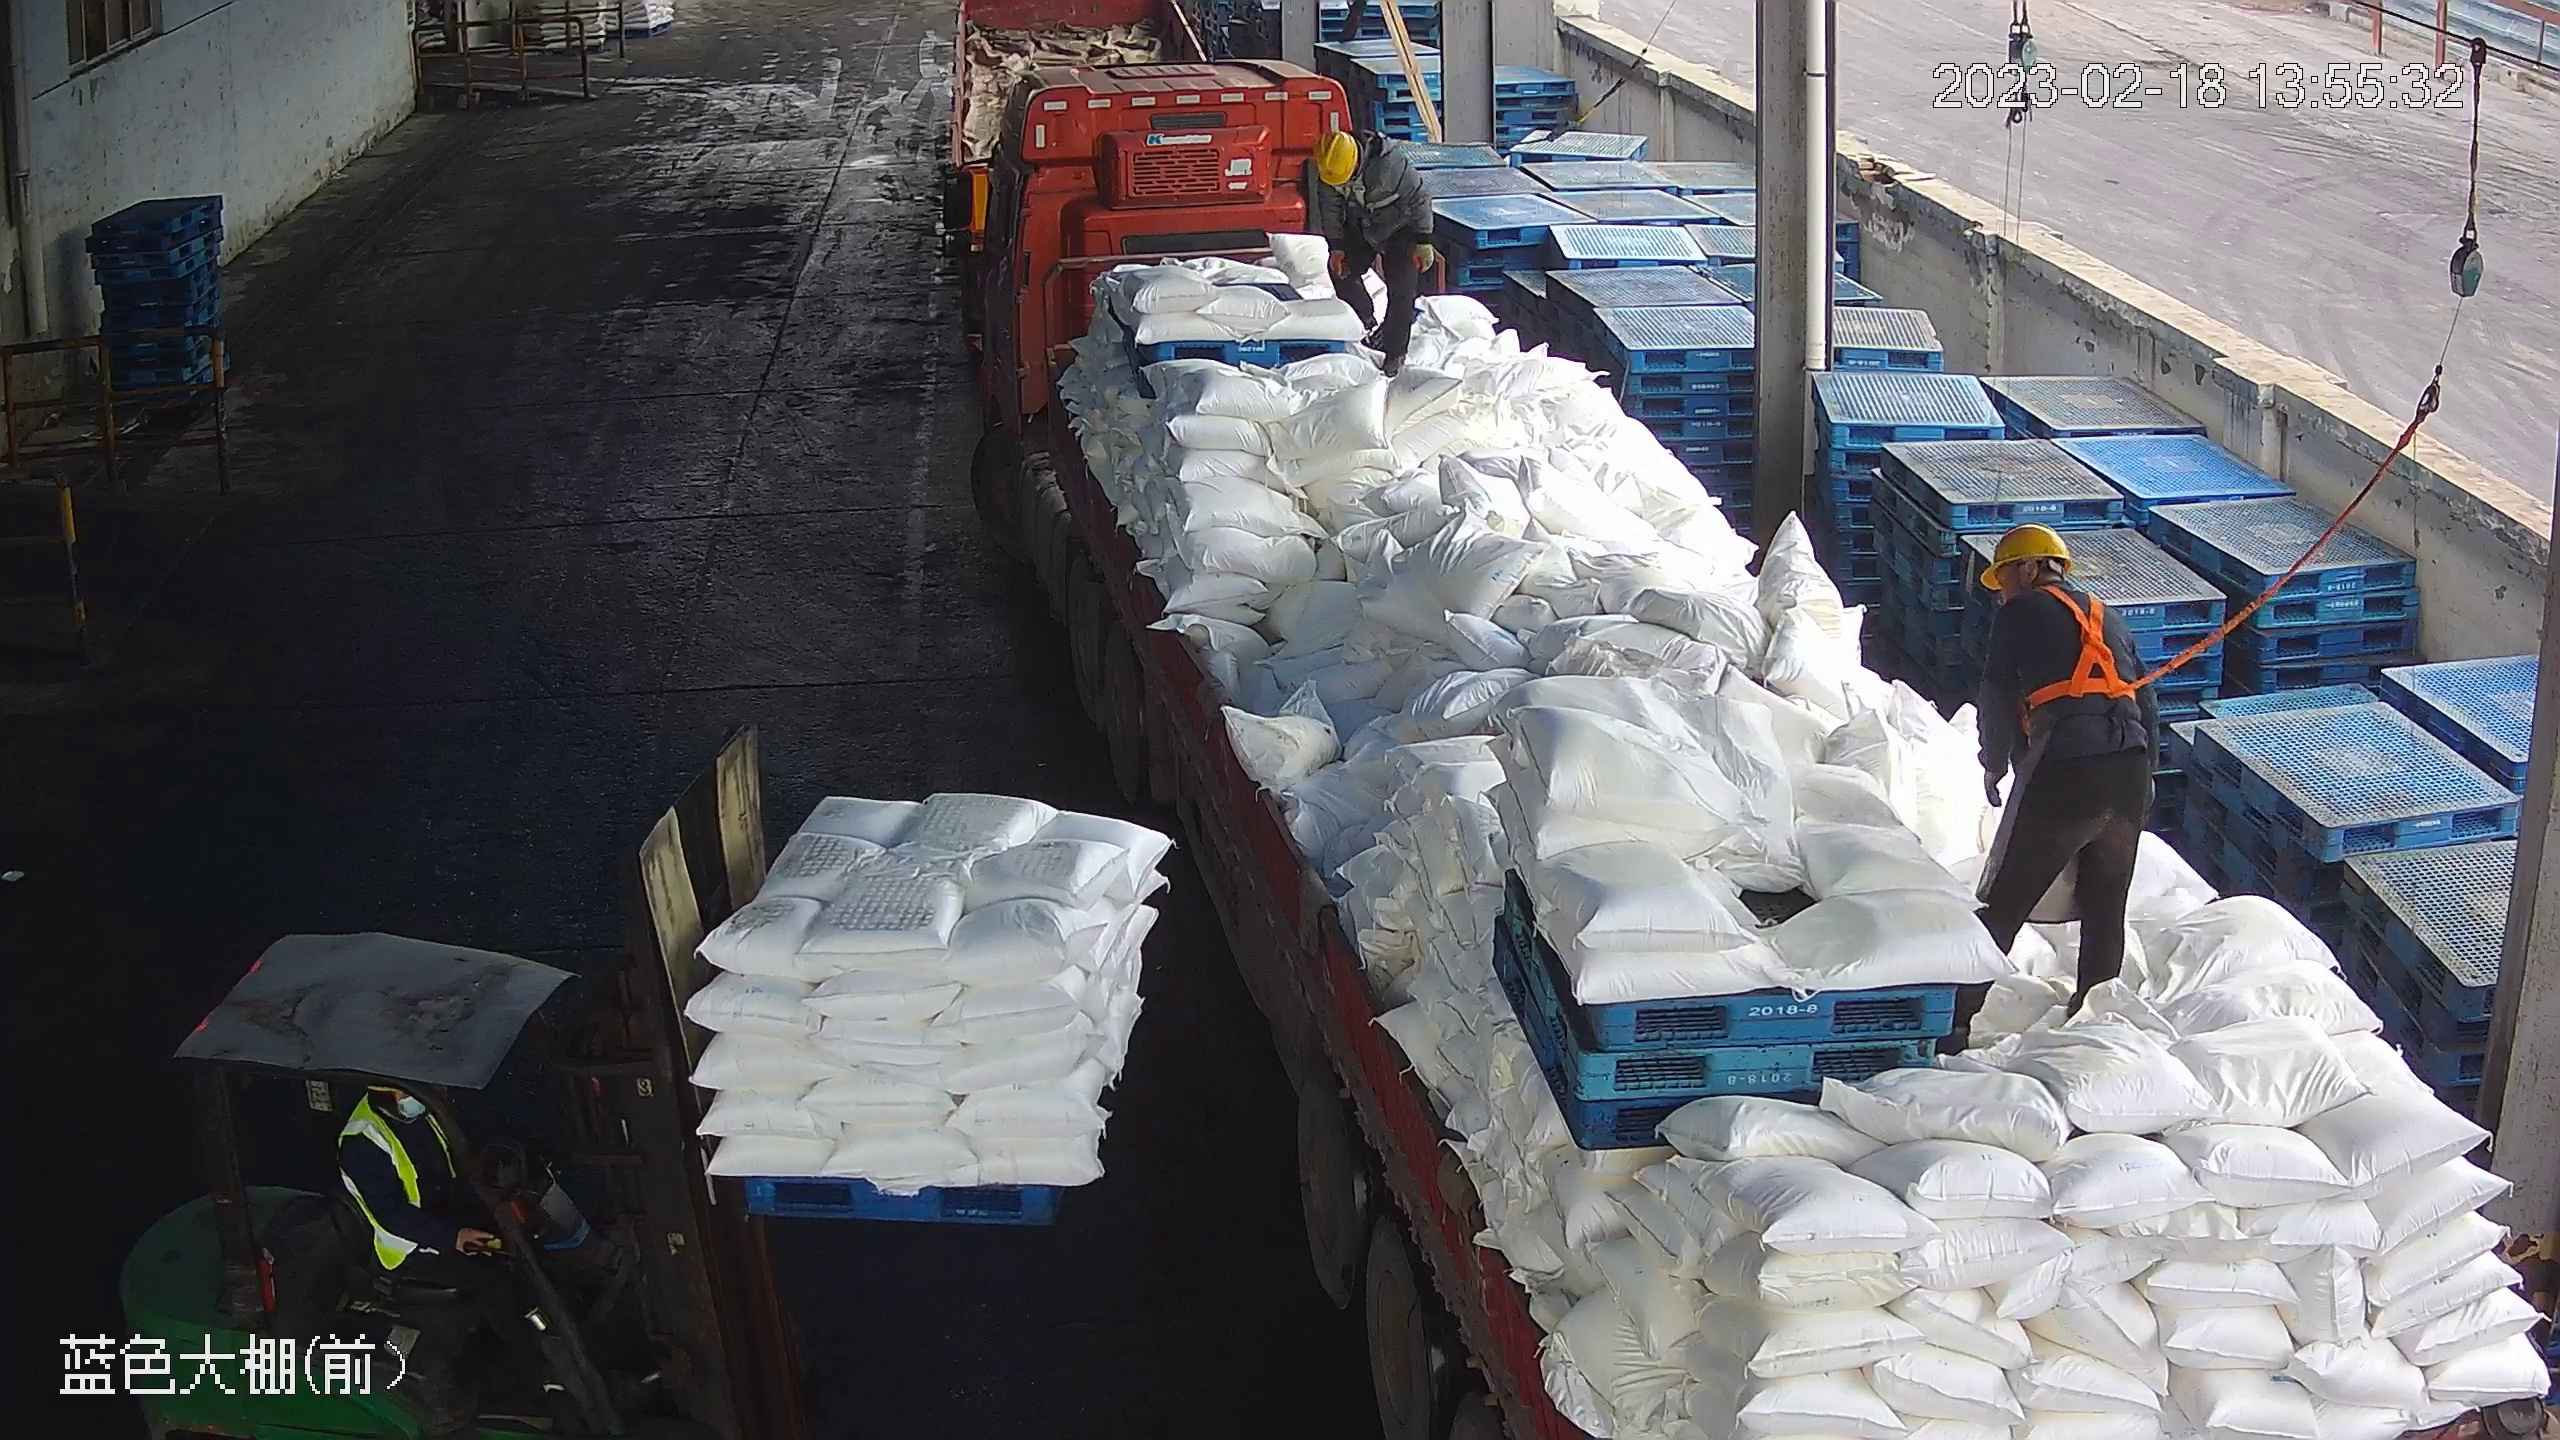belt: (2008, 582, 2160, 708), (1342, 146, 1405, 211)
head: (1976, 520, 2140, 652), (1313, 126, 1419, 209)
helmet: (1978, 521, 2074, 594), (1314, 129, 1361, 183)
people: (1944, 518, 2160, 1047), (323, 1085, 586, 1399), (1302, 121, 1441, 380)
truck: (961, 132, 2556, 1436)
